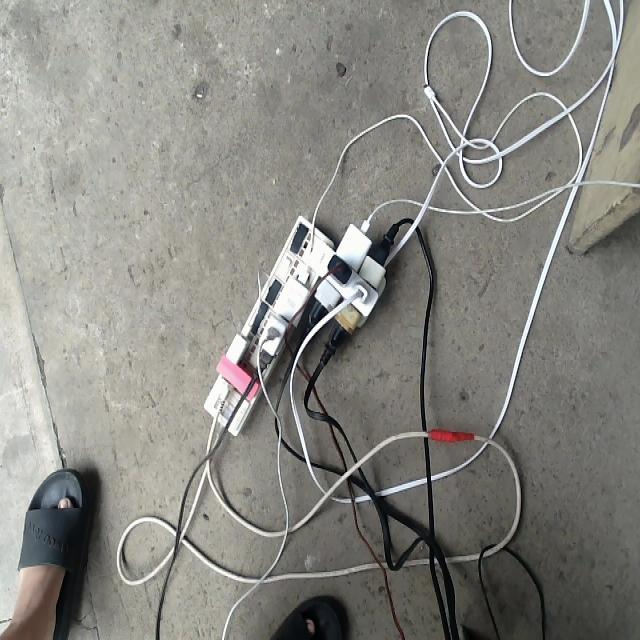-: (202, 204, 385, 432)
